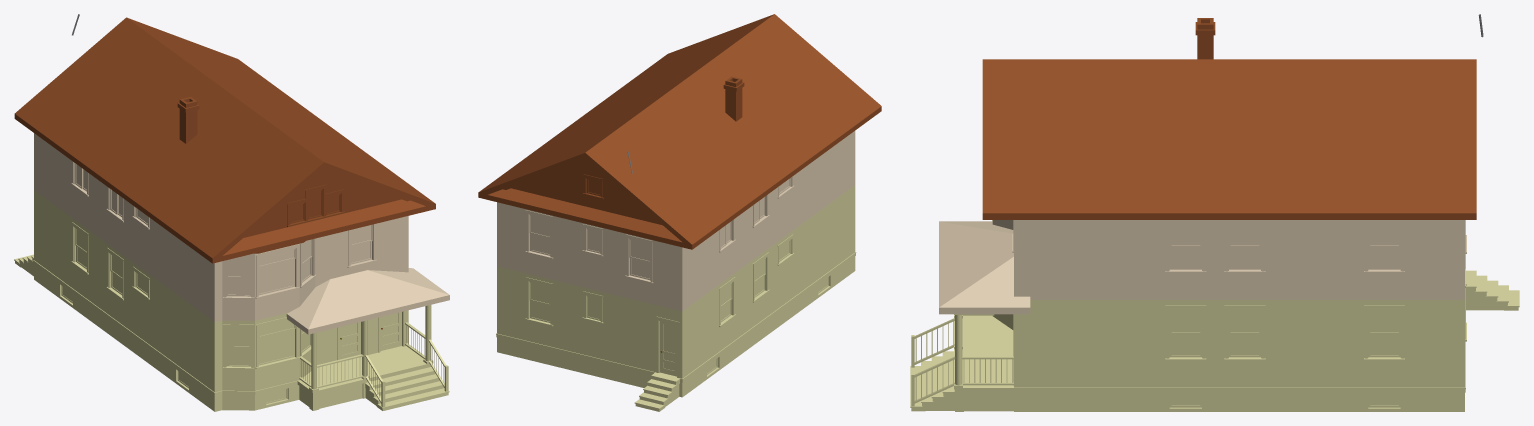
Rendered from house.obj.
The picture shows the model from 3 angles, left to right: view 1: azimuth 30°, elevation 25°; view 2: azimuth 150°, elevation 25°; view 3: azimuth 270°, elevation 25°; orthographic projection. The views are drawn at different scales.
Parts seen in each view (by area): view 1: map_with_fence:map_resized:house1 map_with_fence:map_resized:hou; view 2: map_with_fence:map_resized:house1 map_with_fence:map_resized:hou; view 3: map_with_fence:map_resized:house1 map_with_fence:map_resized:hou.
Part boxes in pixels (bbox=[...]): map_with_fence:map_resized:house1 map_with_fence:map_resized:hou: bbox=[14, 17, 449, 411]; map_with_fence:map_resized:house1 map_with_fence:map_resized:hou: bbox=[478, 14, 881, 411]; map_with_fence:map_resized:house1 map_with_fence:map_resized:hou: bbox=[910, 18, 1519, 411].
Size of the model in its own units: 72 by 76.59 by 136.
